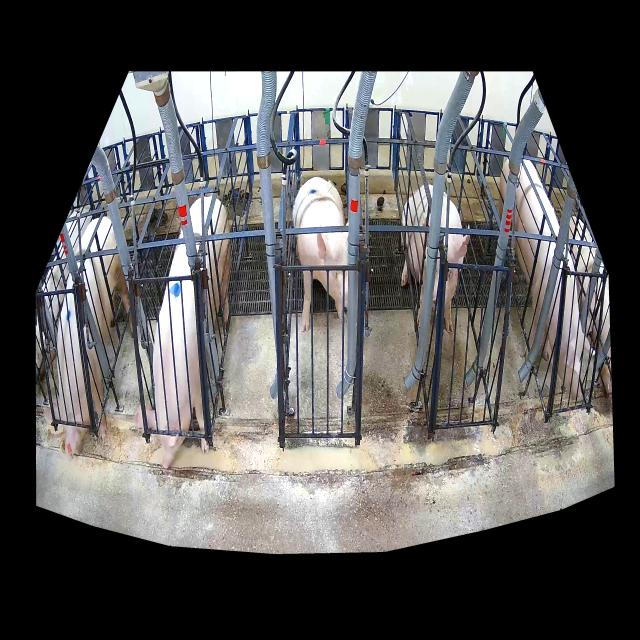pig: (134, 196, 231, 468), (499, 157, 590, 400), (44, 217, 133, 459), (401, 185, 469, 332), (293, 177, 348, 332)
